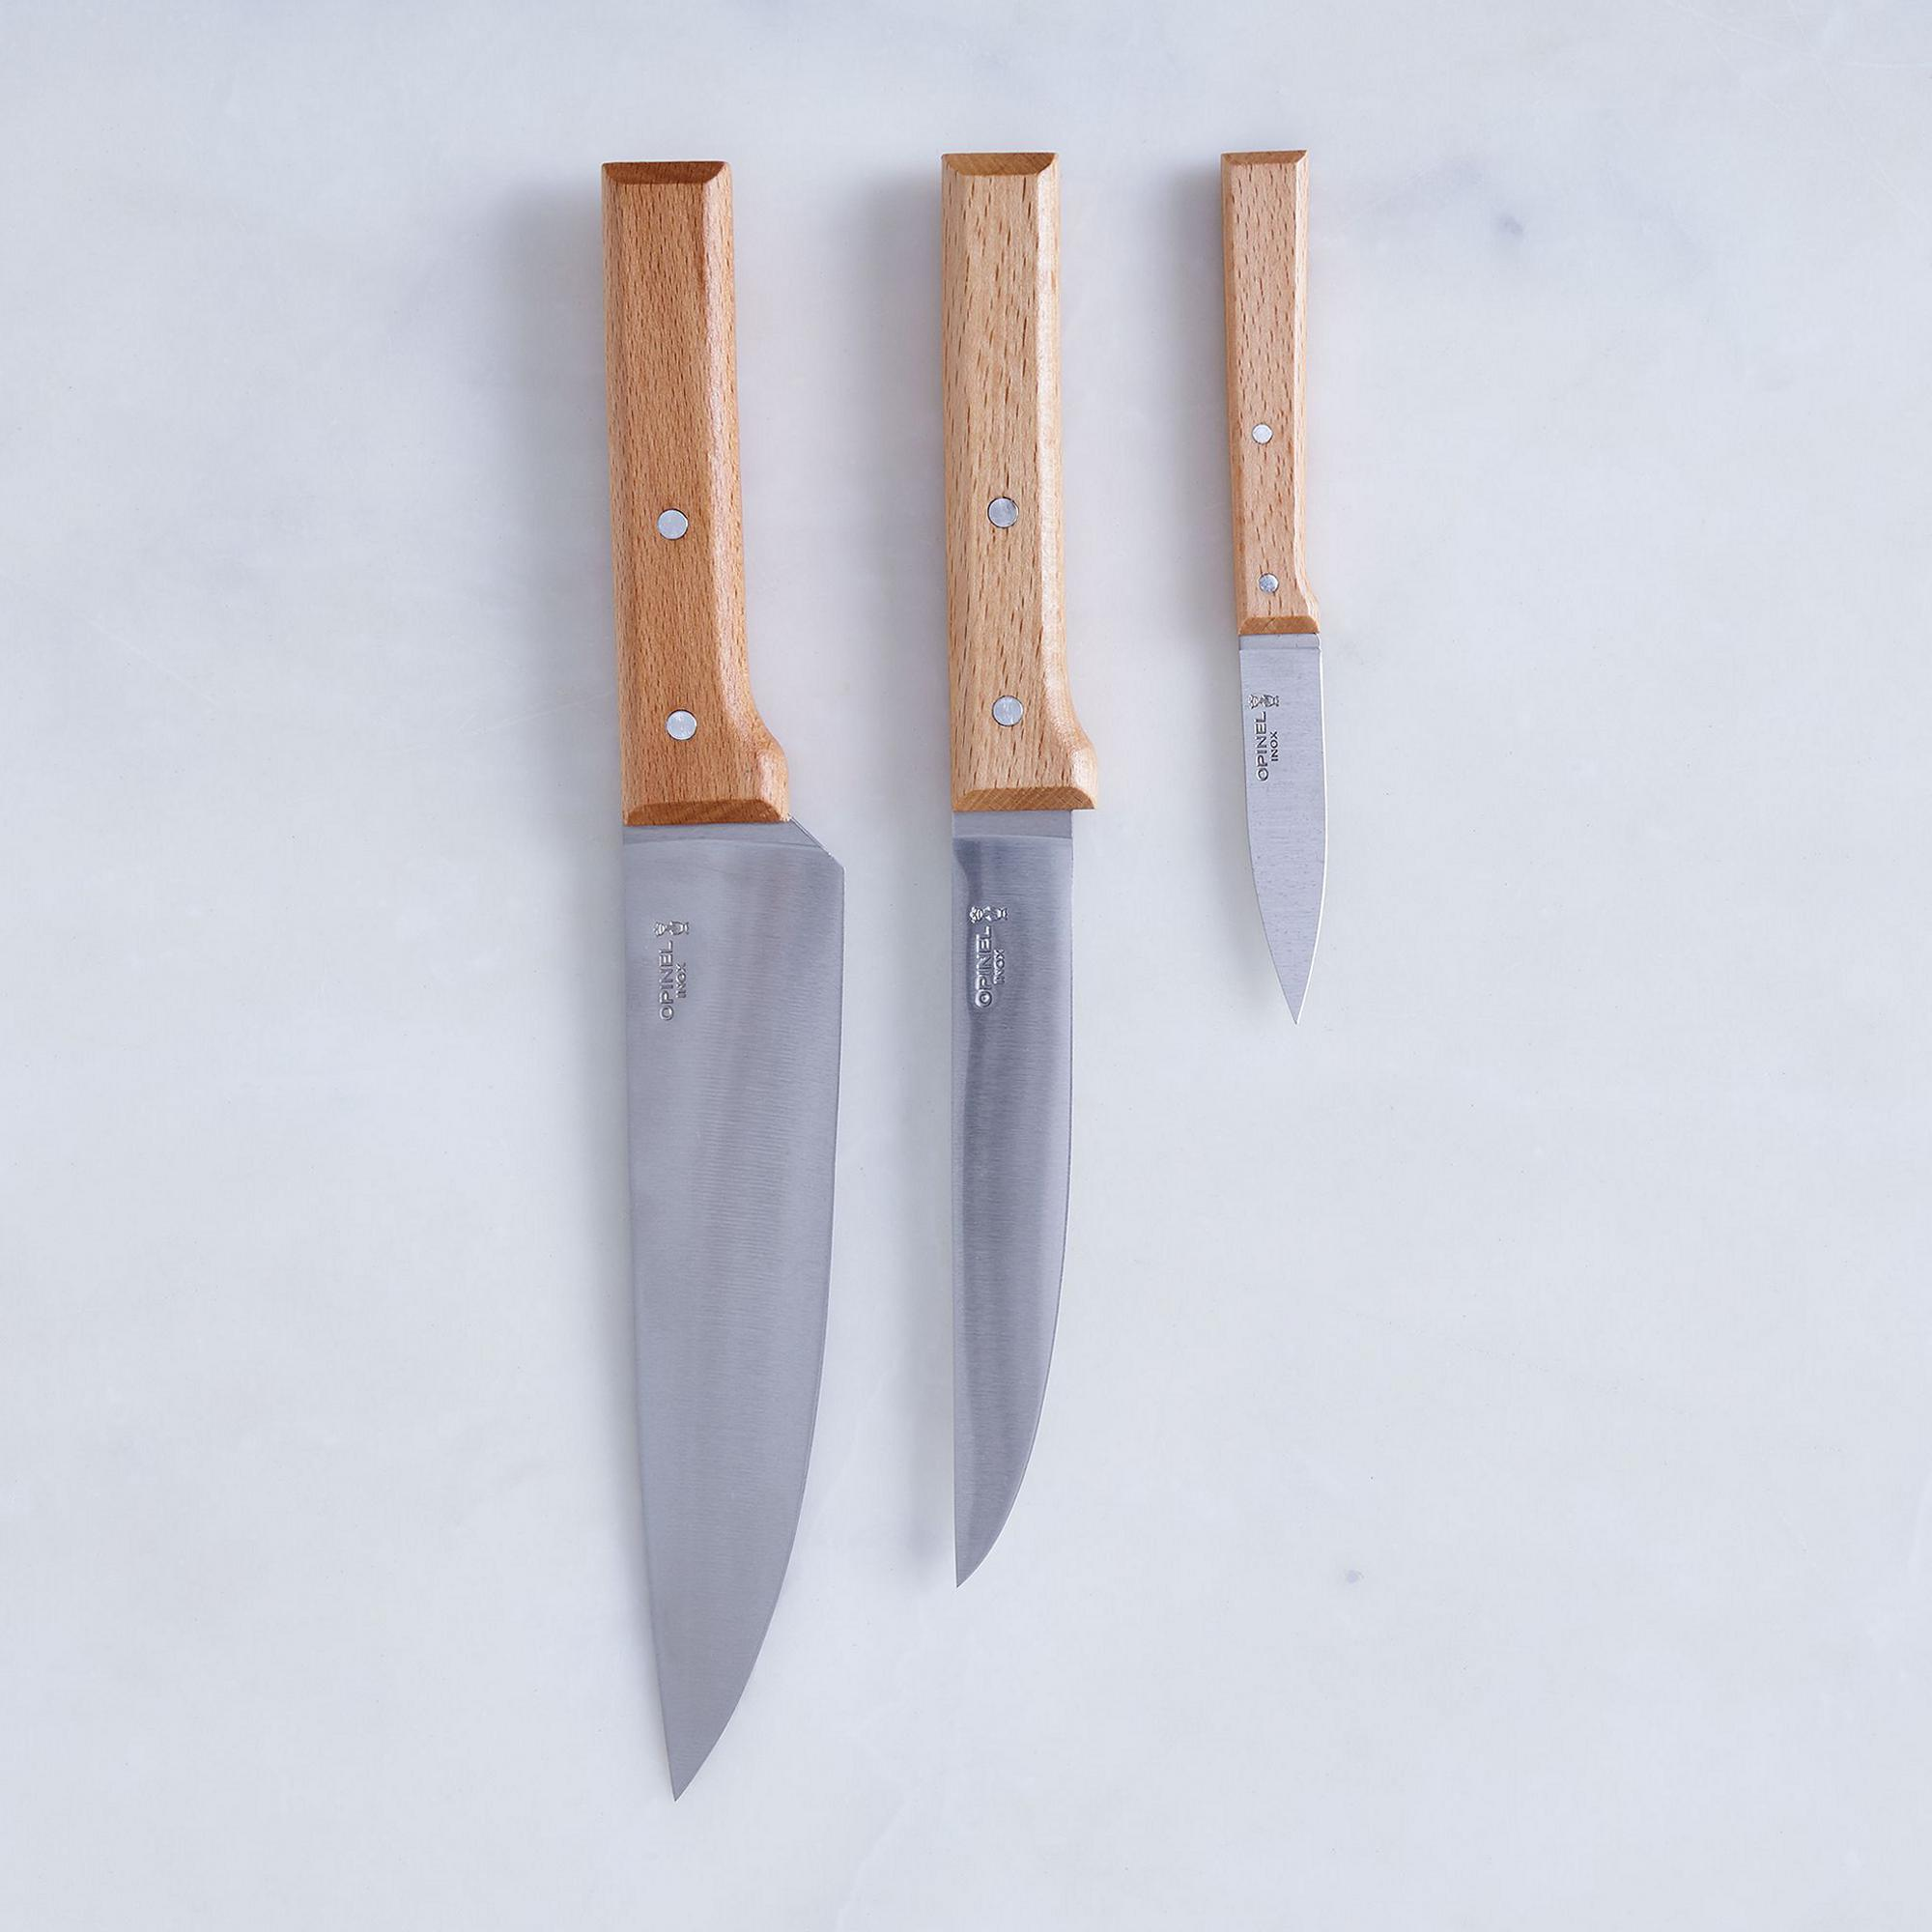knife: (598, 161, 839, 1805), (932, 143, 1104, 1601), (1219, 143, 1339, 1033)
